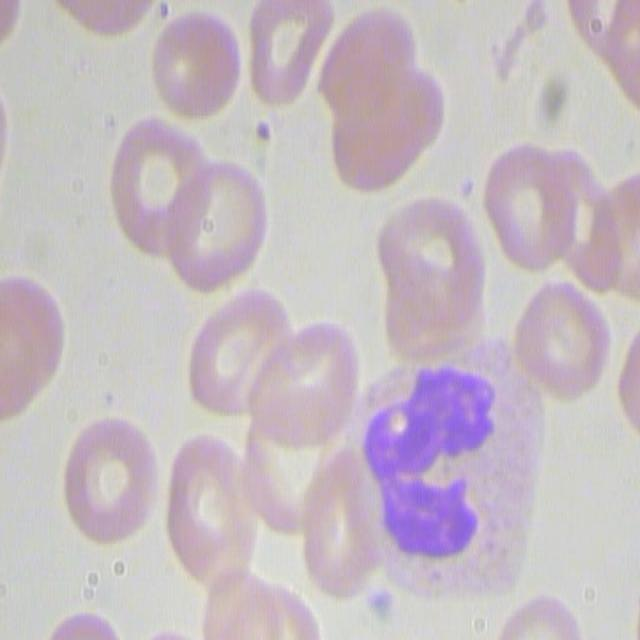RBC: (318, 0, 445, 188), (374, 194, 484, 362), (242, 314, 359, 454), (158, 421, 256, 588), (162, 158, 270, 302), (106, 115, 207, 264), (57, 409, 159, 556), (181, 282, 286, 418), (482, 135, 578, 281), (512, 280, 617, 408), (296, 445, 383, 598), (544, 147, 627, 294), (151, 7, 248, 124), (0, 270, 64, 427), (238, 1, 329, 107), (204, 572, 326, 640), (567, 0, 640, 111), (40, 0, 159, 38), (561, 0, 637, 46)
WBC: (358, 338, 504, 590)
